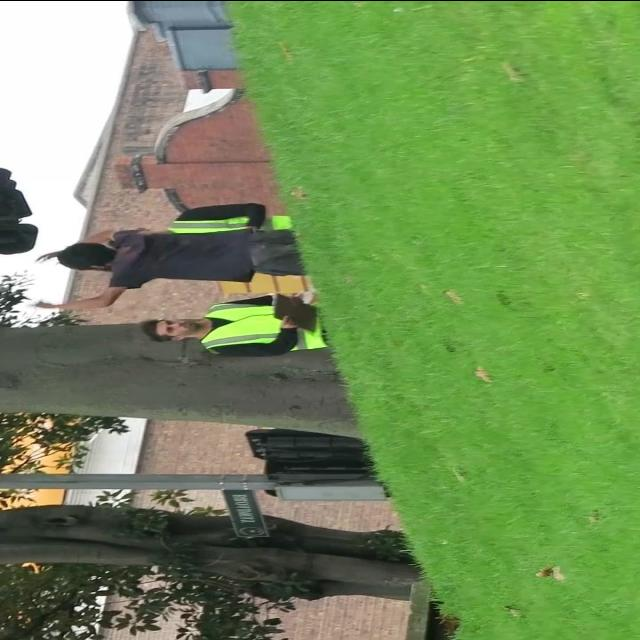jacket: (186, 296, 326, 357)
